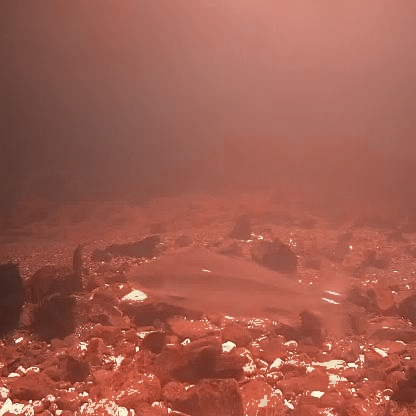salmon: (121, 237, 357, 342)
